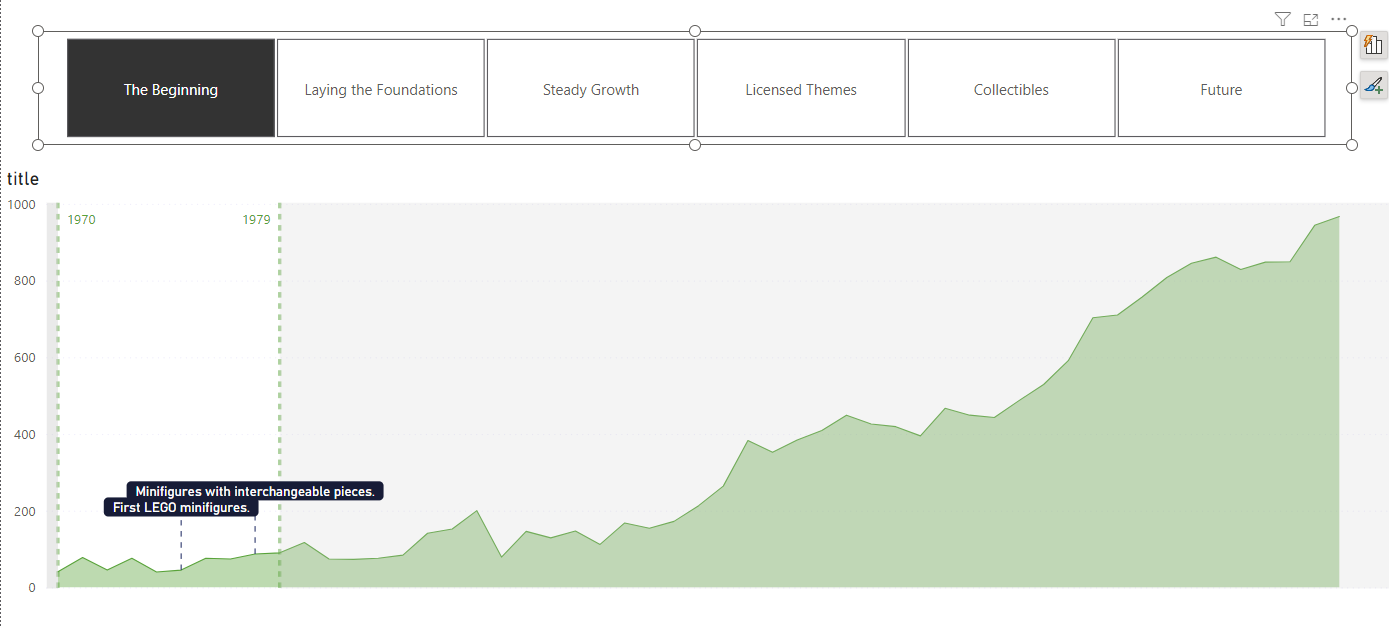

This screenshot's page, from the dashboard's own definition file:
{"tool":"powerbi","page":{"name":"Final","canvas":[1280,720],"ordinal":0},"visuals":[{"type":"slicer","fields":{"Values":["calendario.d_Evolucion"]},"box":[79.9,10.3,1176.2,101.5],"z":0},{"type":"areaChart","title":"title","fields":{"Category":["calendario_Auxilar.Año"],"Y":["01 Medidas.total_legoset","01 Medidas.valor 02"]},"box":[0,144.9,1280,575],"z":3000}]}

Visuals, with their boxes in screenshot pixels (x1, y1, x2, y2):
slicer - calendario.d_Evolucion: bbox=(338, 30, 1316, 115)
"title" areaChart: bbox=(271, 142, 1336, 620)
